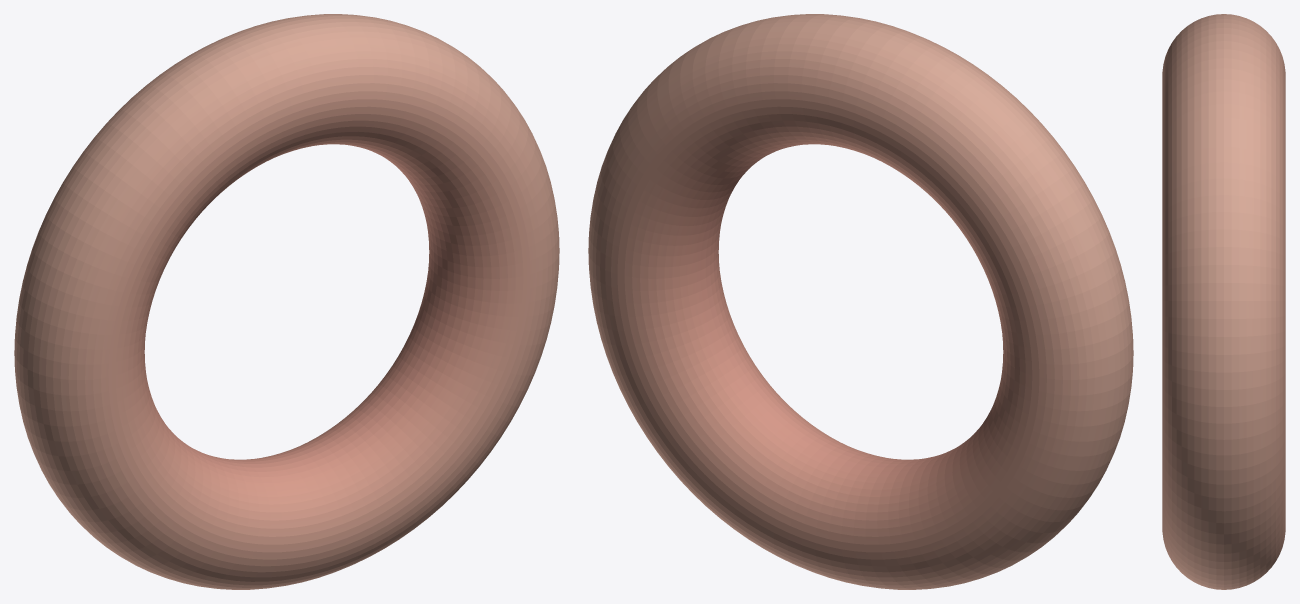
3 renders of one model, left to right at view 1: azimuth 30°, elevation 25°; view 2: azimuth 150°, elevation 25°; view 3: azimuth 270°, elevation 25°, orthographic. The views are drawn at different scales.
Parts seen in each view (by area): view 1: world; view 2: world; view 3: world.
Part boxes in pixels (<box>): world: <box>14,14,559,589</box>; world: <box>588,14,1133,589</box>; world: <box>1162,14,1285,589</box>.
Size of the model in its own units: 30.53 by 30.53 by 6.52.
